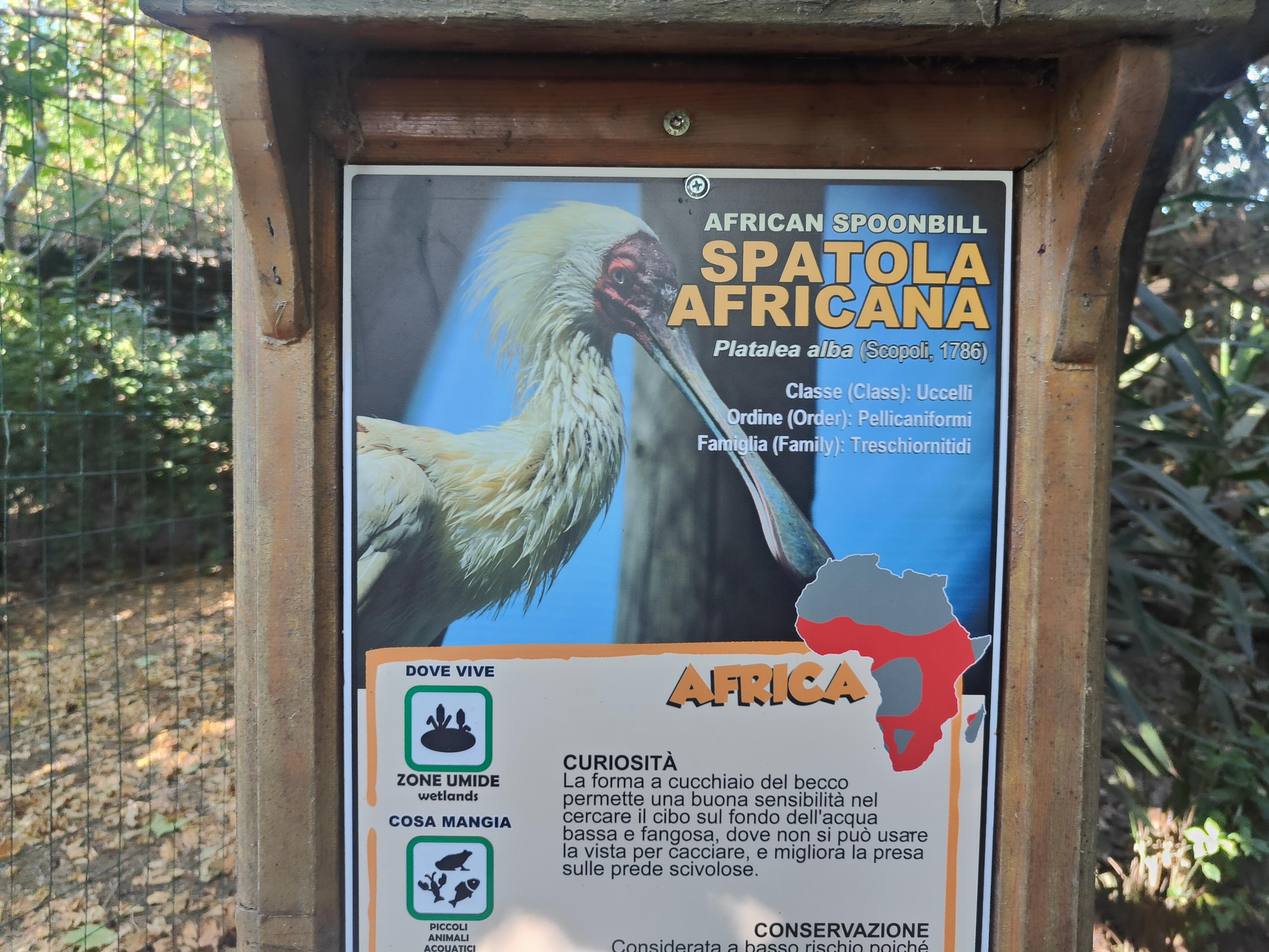apple: (357, 199, 834, 648)
